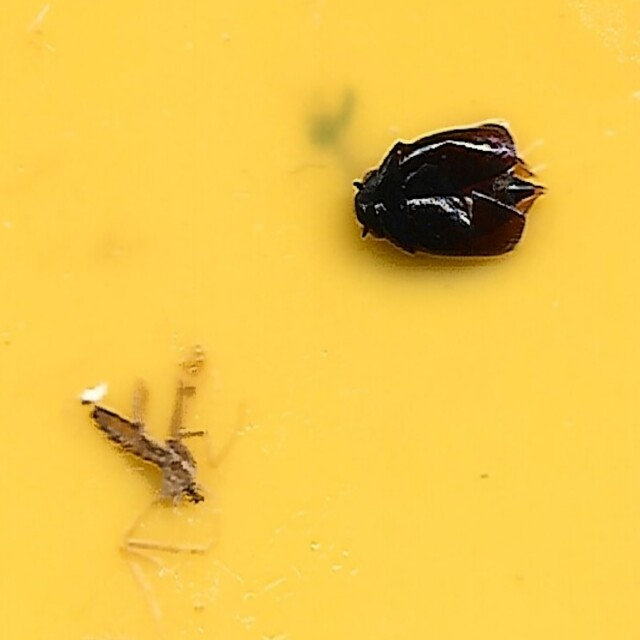Coleoptera: (347, 120, 553, 268)
Nematocera: (87, 356, 213, 520)
